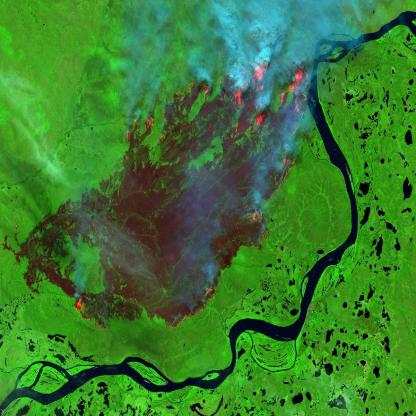fire: (74, 41, 313, 332)
